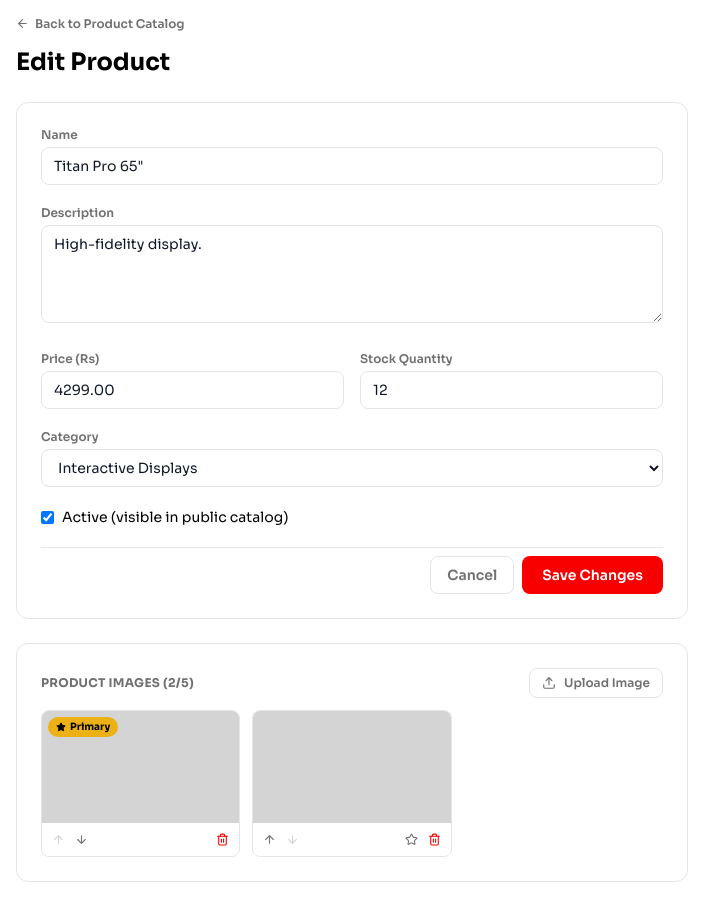
Scenario: Admin ProductForm › shows an error when deleting an image fails
Expected: the heading "Product Images (2/5)" is shown, 41,675 -> 194,691
Click the button titled "Delete" below "Primary".
click(223, 840)  # box 212,829 -> 233,850
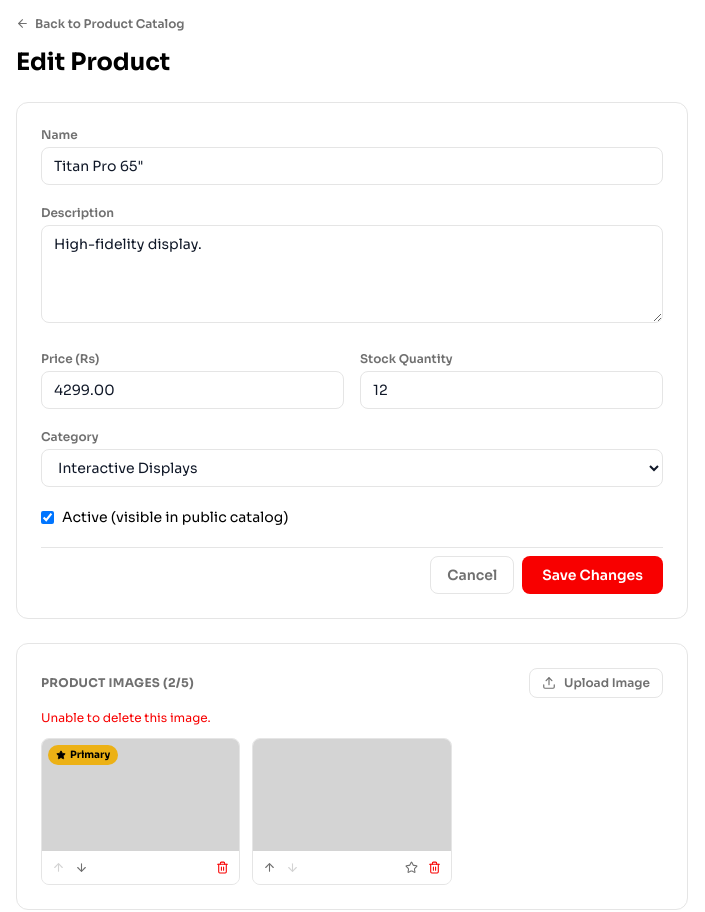
Expected: the heading "Product Images (2/5)" is shown, 41,675 -> 194,691
Expected: the text "Unable to delete this image." is shown, 41,710 -> 211,725
